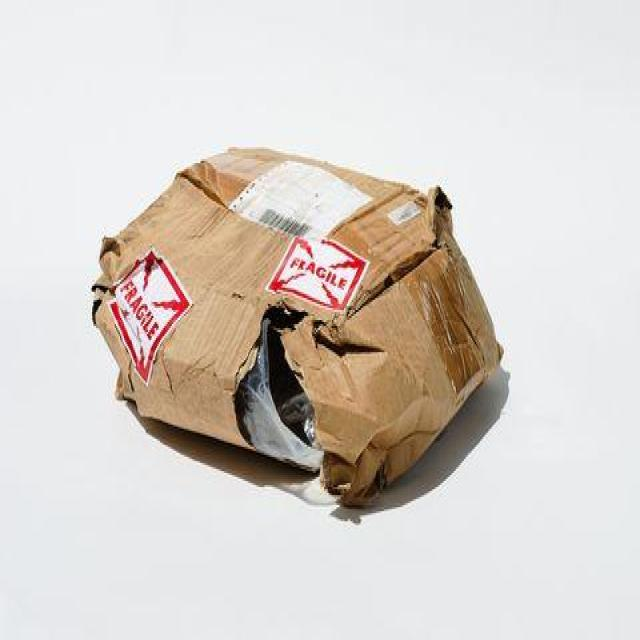cardboard: (92, 145, 505, 510)
